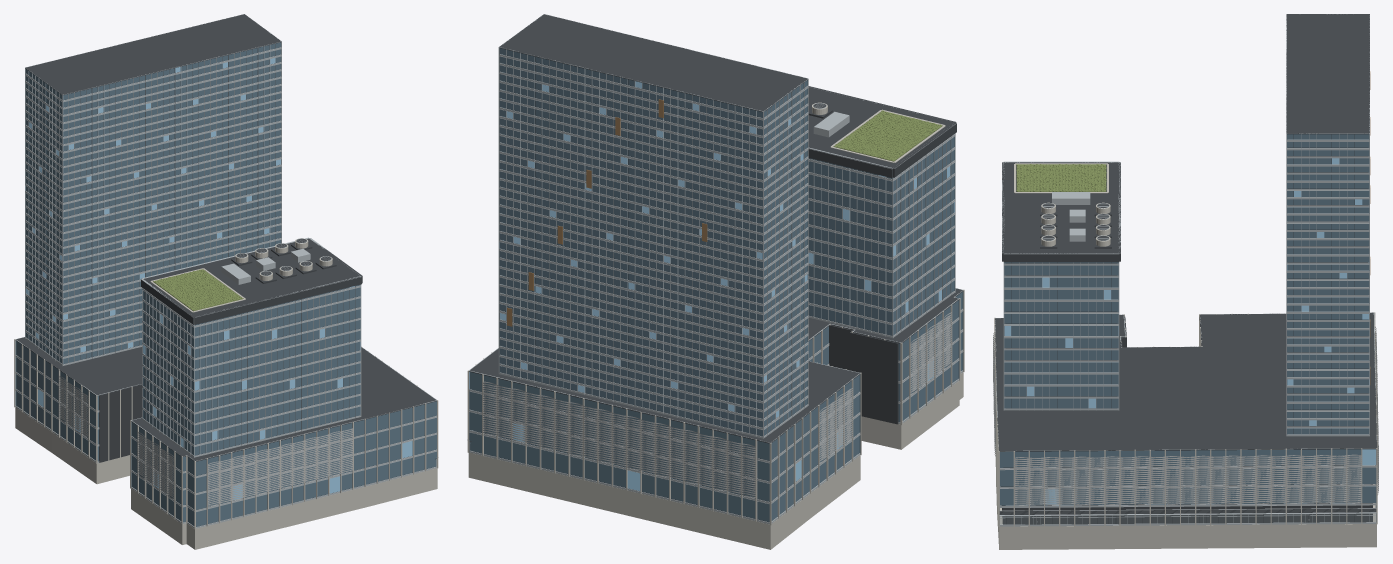
Rendered from block_37.glb.
3 views of the same model, side by side, from view 1: azimuth 30°, elevation 25°; view 2: azimuth 150°, elevation 25°; view 3: azimuth 270°, elevation 25° (orthographic). The views are drawn at different scales.
Visible parts, largest first — view 1: Block37 recessed blue grey panes, Block37 silver curtain wall frames, Block37 dark backing and roof, Block37 pale podium piers, Block37 woven silver steel panels, Night occupied Block37 panes, Block37 office planted roof; view 2: Block37 recessed blue grey panes, Block37 silver curtain wall frames, Block37 dark backing and roof, Block37 pale podium piers, Block37 woven silver steel panels, Night occupied Block37 panes, Block37 office planted roof, Block37 warm tower inset panels; view 3: Block37 dark backing and roof, Block37 recessed blue grey panes, Block37 silver curtain wall frames, Block37 woven silver steel panels, Block37 pale podium piers, Clear Block37 recessed storefront glazing, Block37 office planted roof, Night occupied Block37 panes.
Boxes of the visible parts, x1,y1,x2,y2 form: Block37 recessed blue grey panes: (15,42,436,526); Block37 silver curtain wall frames: (15,14,438,528); Block37 dark backing and roof: (15,14,436,526); Block37 pale podium piers: (14,238,438,549); Block37 woven silver steel panels: (59,376,353,506); Night occupied Block37 panes: (25,58,412,500); Block37 office planted roof: (153,269,243,311); Block37 recessed blue grey panes: (469,48,963,522); Block37 silver curtain wall frames: (469,14,963,524); Block37 dark backing and roof: (469,14,962,522); Block37 pale podium piers: (467,102,964,549); Block37 woven silver steel panels: (482,312,951,497); Night occupied Block37 panes: (469,81,954,490); Block37 office planted roof: (833,110,942,161); Block37 warm tower inset panels: (507,99,707,326); Block37 dark backing and roof: (995,14,1376,524); Block37 recessed blue grey panes: (1000,134,1376,521); Block37 silver curtain wall frames: (995,14,1376,526); Block37 woven silver steel panels: (993,327,1378,505); Block37 pale podium piers: (994,163,1377,549); Clear Block37 recessed storefront glazing: (1000,514,1375,524); Block37 office planted roof: (1016,164,1106,191); Night occupied Block37 panes: (1004,158,1375,505).
Bounding box in the file's own units: 103 × 138 × 120.
